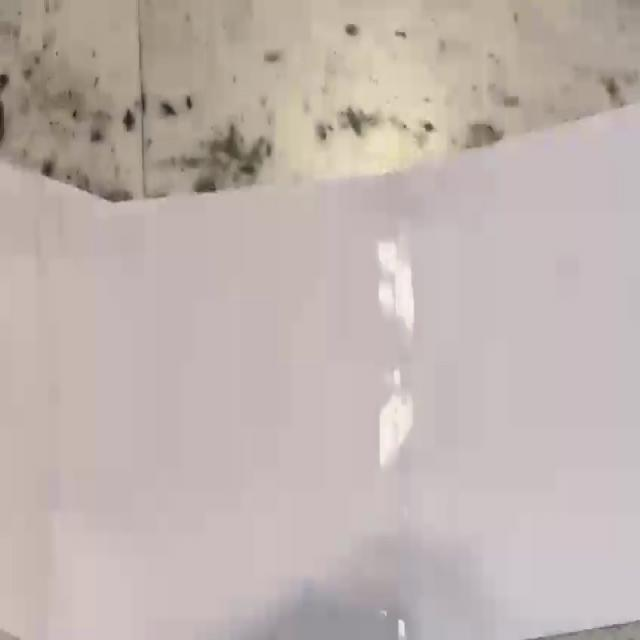road: (0, 104, 640, 640)
